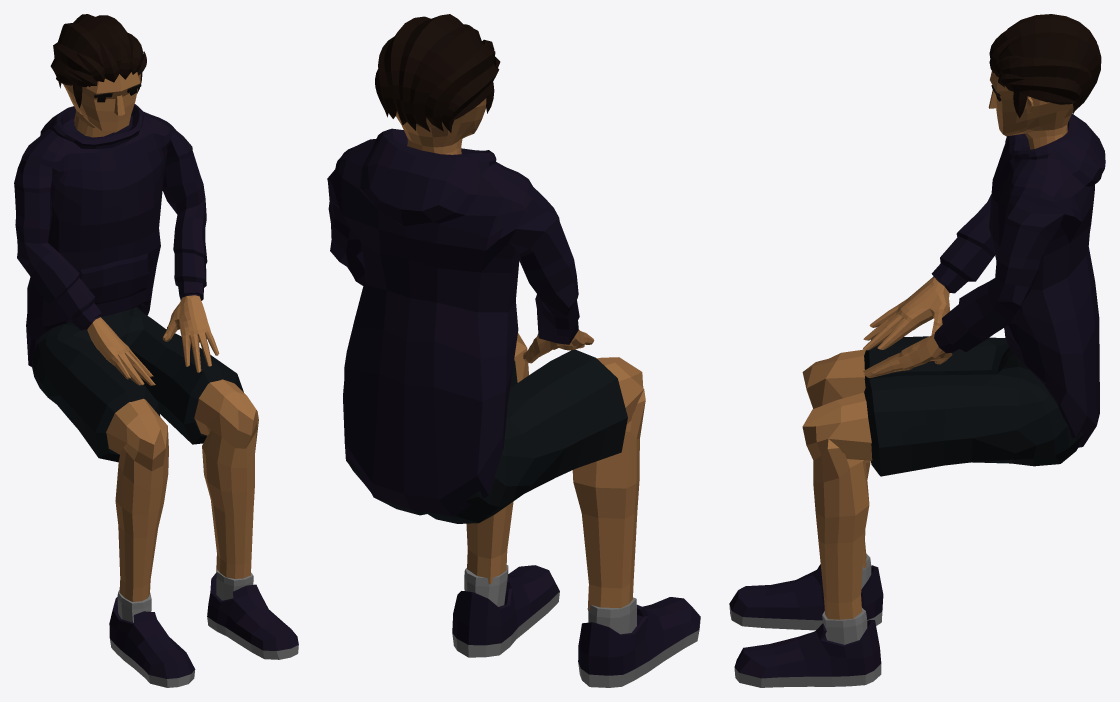
File: m_casual.obj
3 renders of one model, left to right at view 1: azimuth 30°, elevation 25°; view 2: azimuth 150°, elevation 25°; view 3: azimuth 270°, elevation 25°, orthographic. The views are drawn at different scales.
Visible parts, largest first — view 1: Casual_Body, Casual_Legs, Casual_Feet, Casual_Head; view 2: Casual_Body, Casual_Legs, Casual_Feet, Casual_Head; view 3: Casual_Body, Casual_Legs, Casual_Feet, Casual_Head.
Boxes of the visible parts, left/top/right/bottom form: Casual_Body: left=14, top=104, right=219, bottom=385; Casual_Legs: left=31, top=307, right=258, bottom=601; Casual_Feet: left=109, top=569, right=298, bottom=687; Casual_Head: left=50, top=14, right=146, bottom=137; Casual_Body: left=327, top=128, right=594, bottom=516; Casual_Legs: left=349, top=333, right=645, bottom=609; Casual_Feet: left=452, top=565, right=700, bottom=687; Casual_Head: left=375, top=14, right=500, bottom=154; Casual_Body: left=863, top=114, right=1105, bottom=447; Casual_Legs: left=802, top=336, right=1083, bottom=619; Casual_Feet: left=729, top=554, right=883, bottom=687; Casual_Head: left=988, top=14, right=1101, bottom=149.
Bounding box in the file's own units: 0.4786 × 1.35 × 0.7285.
